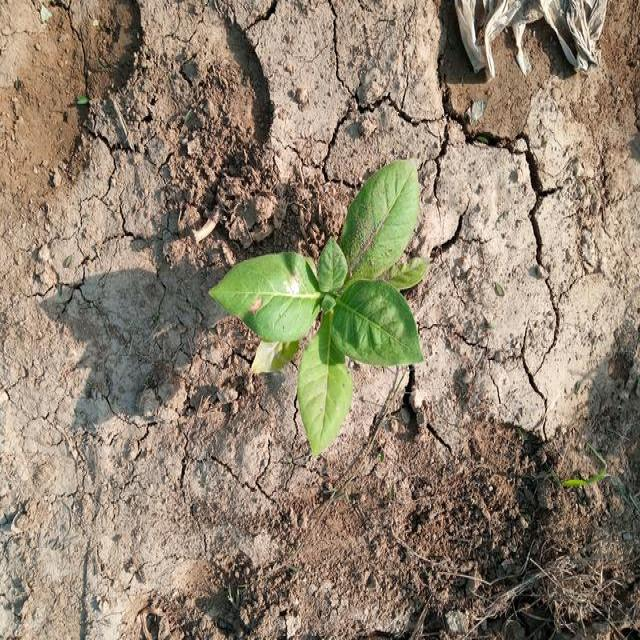crop: (212, 170, 440, 444)
